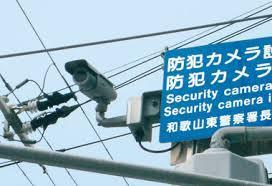tutu: (60, 56, 122, 110)
